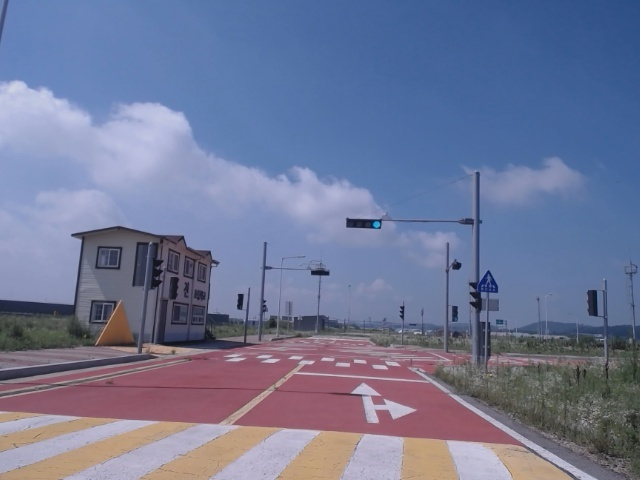straight_green_4: (346, 220, 381, 229)
